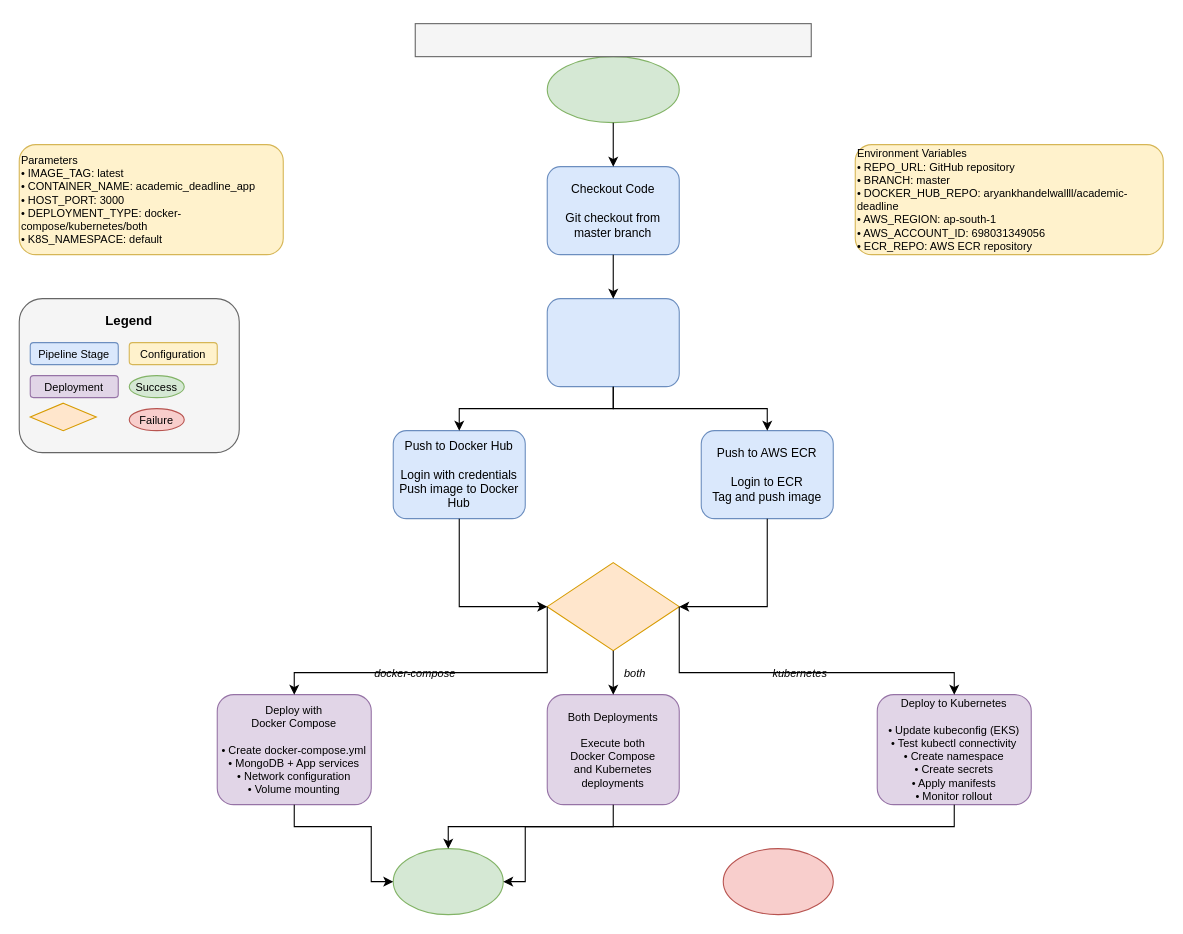
This 1183x934 diagram has some shape labels left out. The shapes that lost their labels are listed below. From the top down, each one's centre as x and y in pixels, then its label:
At point 612,40: "Jenkins Pipeline Structure - Academic Deadline Tracker".
At point 612,89: "Pipeline Start".
At point 612,342: "Build Docker Image docker build -t ${DOCKER_HUB_REPO}:${IMAGE_TAG}".
At point 62,416: "Decision".
At point 612,606: "Deployment Type?".
At point 447,881: "Success Pipeline completed successfully!".
At point 777,881: "Failure Check console logs for errors".
